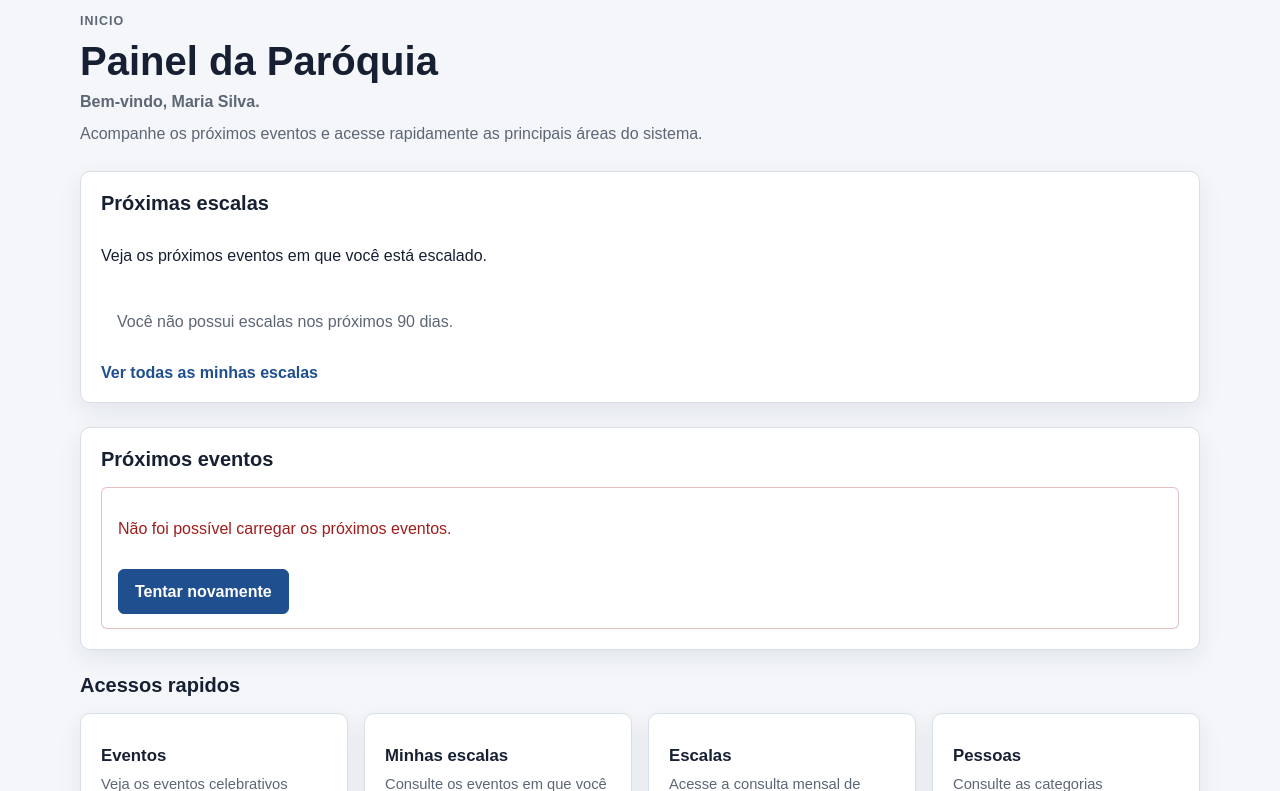
Test: HomeComponent › should reload events when the retry button is clicked
Step 1. Click the button with class "home__button" → [203, 592], box left=118, top=569, right=289, bottom=614
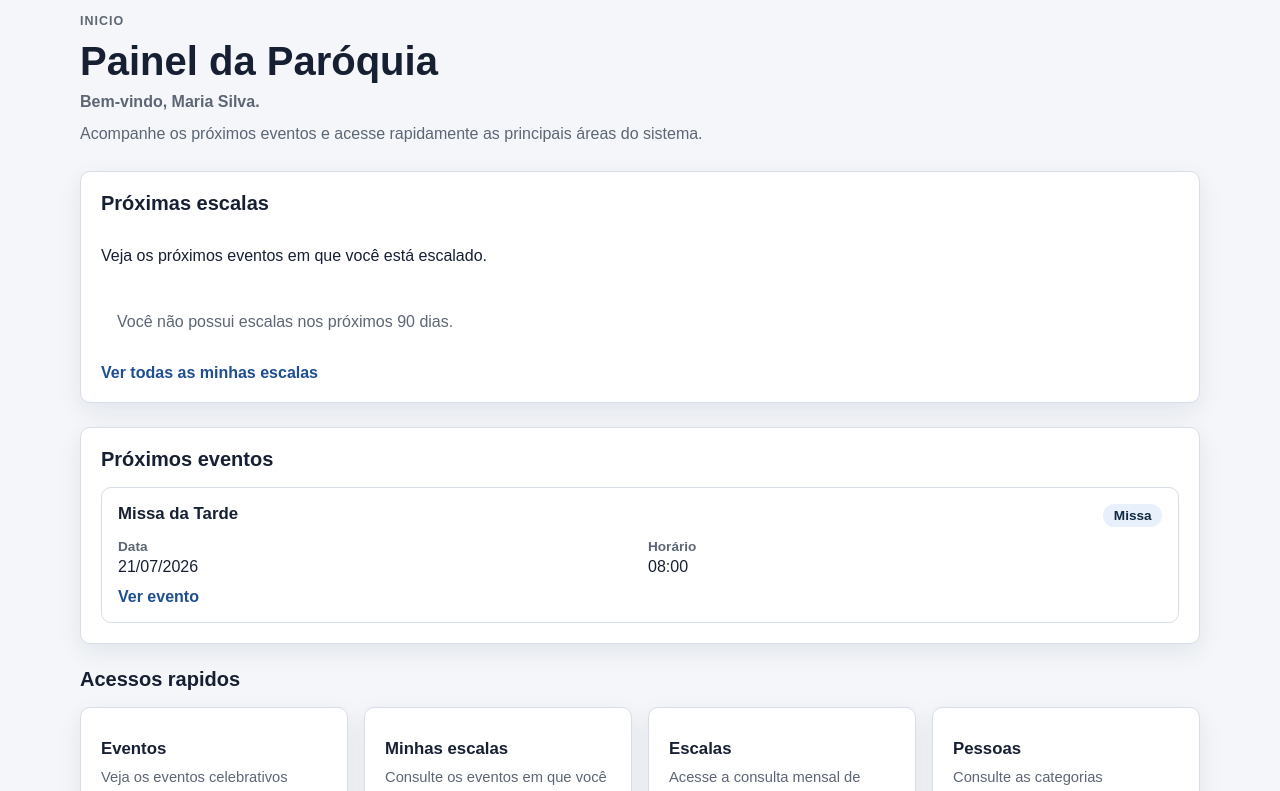
Expected: the text "Missa da Tarde" is shown, left=118, top=504, right=238, bottom=524
Expected: the text "Não foi possível carregar os próximos eventos." is gone
